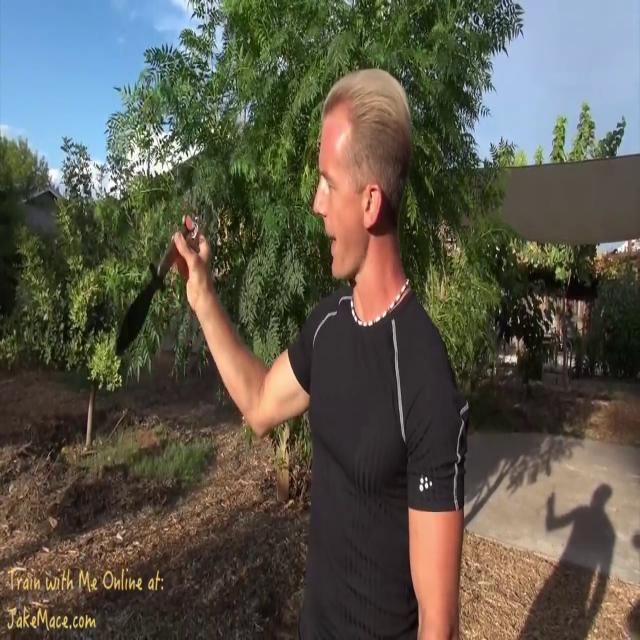knife: (103, 212, 204, 384)
